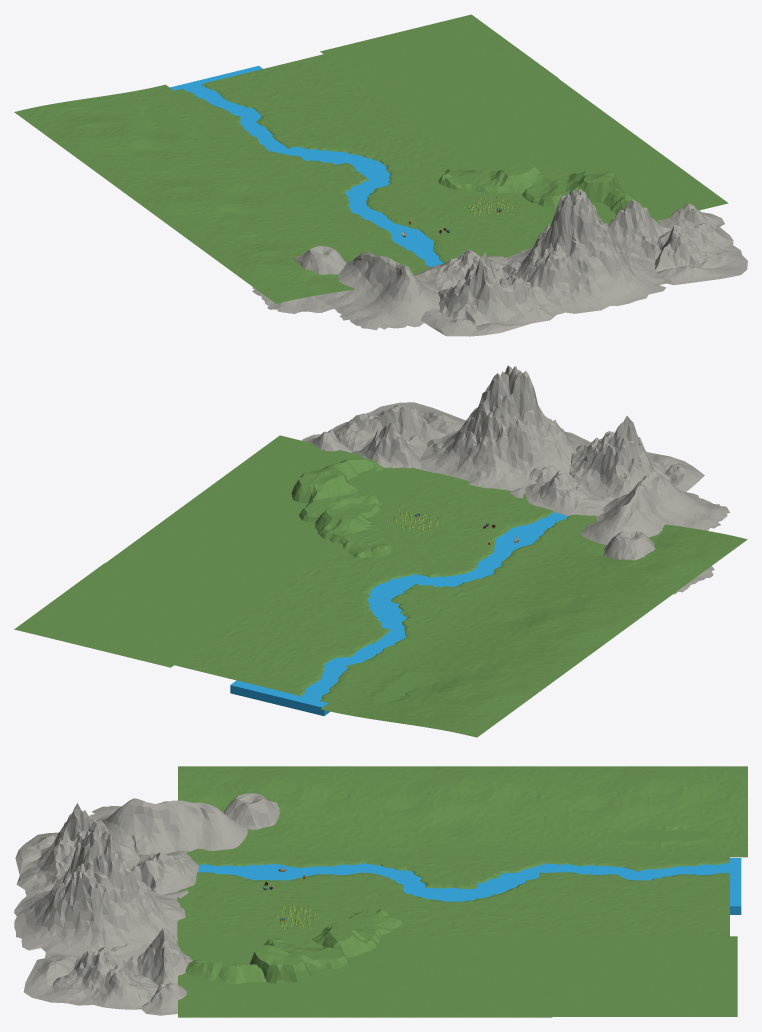
The model's file is landscape.glb.
The picture shows the model from 3 angles, top to bottom: view 1: azimuth 30°, elevation 25°; view 2: azimuth 150°, elevation 25°; view 3: azimuth 270°, elevation 25°; orthographic projection. The views are drawn at different scales.
Parts seen in each view (by area): view 1: MT_Mountain_L_a_43, MT_River_End_L_d_02.005, MT_River_End_L_d_02.002, MT_River_End_L_d_02.001, MT_River_End_L_d_02.004, MT_River_L_a_01_R, MT_River_L_a_03, MT_River_End_L_d_02, MT_River_L_a_02_R, MT_Mountain_L_e_02, MT_River_End_L_d_02.003, MT_Mountain_L_a_10.001 (+5 smaller); view 2: MT_Mountain_L_a_43, MT_River_End_L_d_02.005, MT_River_End_L_d_02.002, MT_River_End_L_d_02.001, MT_River_End_L_d_02.004, MT_River_L_a_01_R, MT_River_L_a_03, MT_River_End_L_d_02, MT_River_L_a_02_R, MT_River_End_L_d_02.003, River, MT_Mountain_L_e_02 (+5 smaller); view 3: MT_Mountain_L_a_43, MT_River_End_L_d_02.002, MT_River_End_L_d_02.001, MT_River_End_L_d_02.005, MT_River_End_L_d_02.004, MT_River_End_L_d_02, MT_River_L_a_01_R, MT_River_L_a_03, MT_River_L_a_02_R, MT_River_End_L_d_02.003, MT_Mountain_L_e_02, River (+5 smaller).
Part boxes in pixels (x1,y1,x2,y2): MT_Mountain_L_a_43: (414,189,665,336); MT_River_End_L_d_02.005: (320,14,558,115); MT_River_End_L_d_02.002: (14,84,252,175); MT_River_End_L_d_02.001: (101,148,339,239); MT_River_End_L_d_02.004: (409,79,640,169); MT_River_L_a_01_R: (174,54,405,150); MT_River_L_a_03: (256,114,483,214); MT_River_End_L_d_02: (188,212,421,303); MT_River_L_a_02_R: (344,188,552,271); MT_Mountain_L_e_02: (608,200,747,285); MT_River_End_L_d_02.003: (517,139,728,224); MT_Mountain_L_a_10.001: (314,251,440,330); MT_Mountain_L_a_43: (420,365,704,516); MT_River_End_L_d_02.005: (14,563,260,667); MT_River_End_L_d_02.002: (320,643,566,737); MT_River_End_L_d_02.001: (411,577,656,671); MT_River_End_L_d_02.004: (105,501,337,600); MT_River_L_a_01_R: (174,603,413,702); MT_River_L_a_03: (259,543,504,640); MT_River_End_L_d_02: (501,513,747,605); MT_River_L_a_02_R: (369,472,584,574); MT_River_End_L_d_02.003: (190,435,433,532); River: (230,512,567,715); MT_Mountain_L_e_02: (302,402,465,469); MT_Mountain_L_a_43: (14,803,198,958); MT_River_End_L_d_02.002: (557,766,747,857); MT_River_End_L_d_02.001: (368,766,558,857); MT_River_End_L_d_02.005: (547,936,737,1016); MT_River_End_L_d_02.004: (361,937,552,1017); MT_River_End_L_d_02: (178,766,368,856); MT_River_L_a_01_R: (539,857,729,937); MT_River_L_a_03: (360,857,550,937); MT_River_L_a_02_R: (177,857,367,937); MT_River_End_L_d_02.003: (178,937,368,1017); MT_Mountain_L_e_02: (23,928,192,1015); River: (198,858,741,914).
Bounding box in the file's own units: 298 × 66.87 × 385.
Materials: 10 (2 with a texture image).
